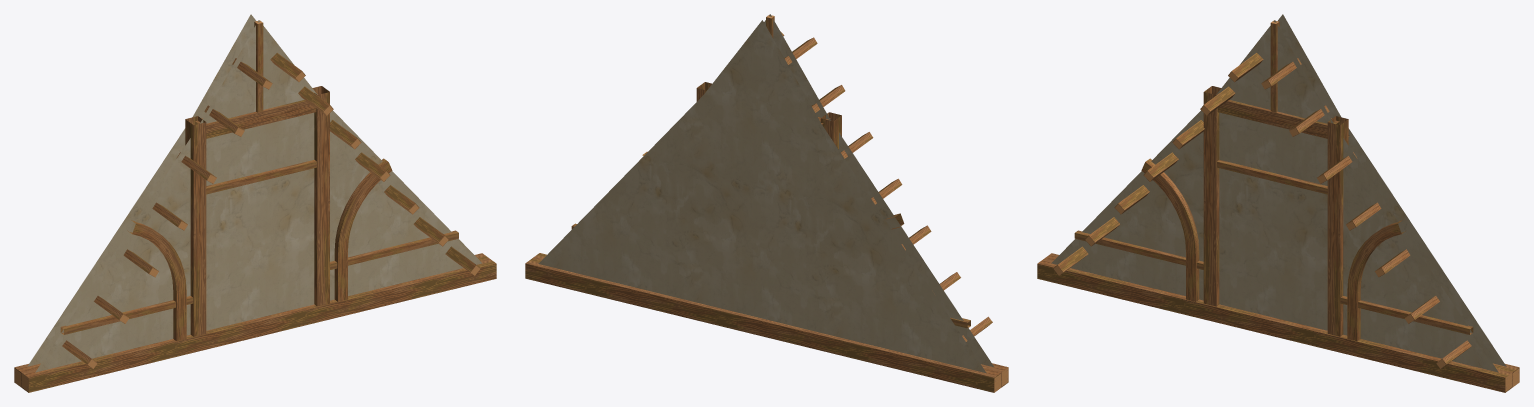
Rendered from Roof_Front_Brick8.gltf.
3 renders of one model, left to right at view 1: azimuth 30°, elevation 25°; view 2: azimuth 150°, elevation 25°; view 3: azimuth 330°, elevation 25°, orthographic.
Parts seen in each view (by area): view 1: Roof_Front_Brick8; view 2: Roof_Front_Brick8; view 3: Roof_Front_Brick8.
Boxes of the visible parts, x1,y1,x2,y2 form: Roof_Front_Brick8: (14, 14, 496, 392); Roof_Front_Brick8: (525, 14, 1008, 392); Roof_Front_Brick8: (1037, 14, 1519, 392).
Bounding box in the file's own units: 8.51 × 5.45 × 1.13.
2 materials, 2 textured.
